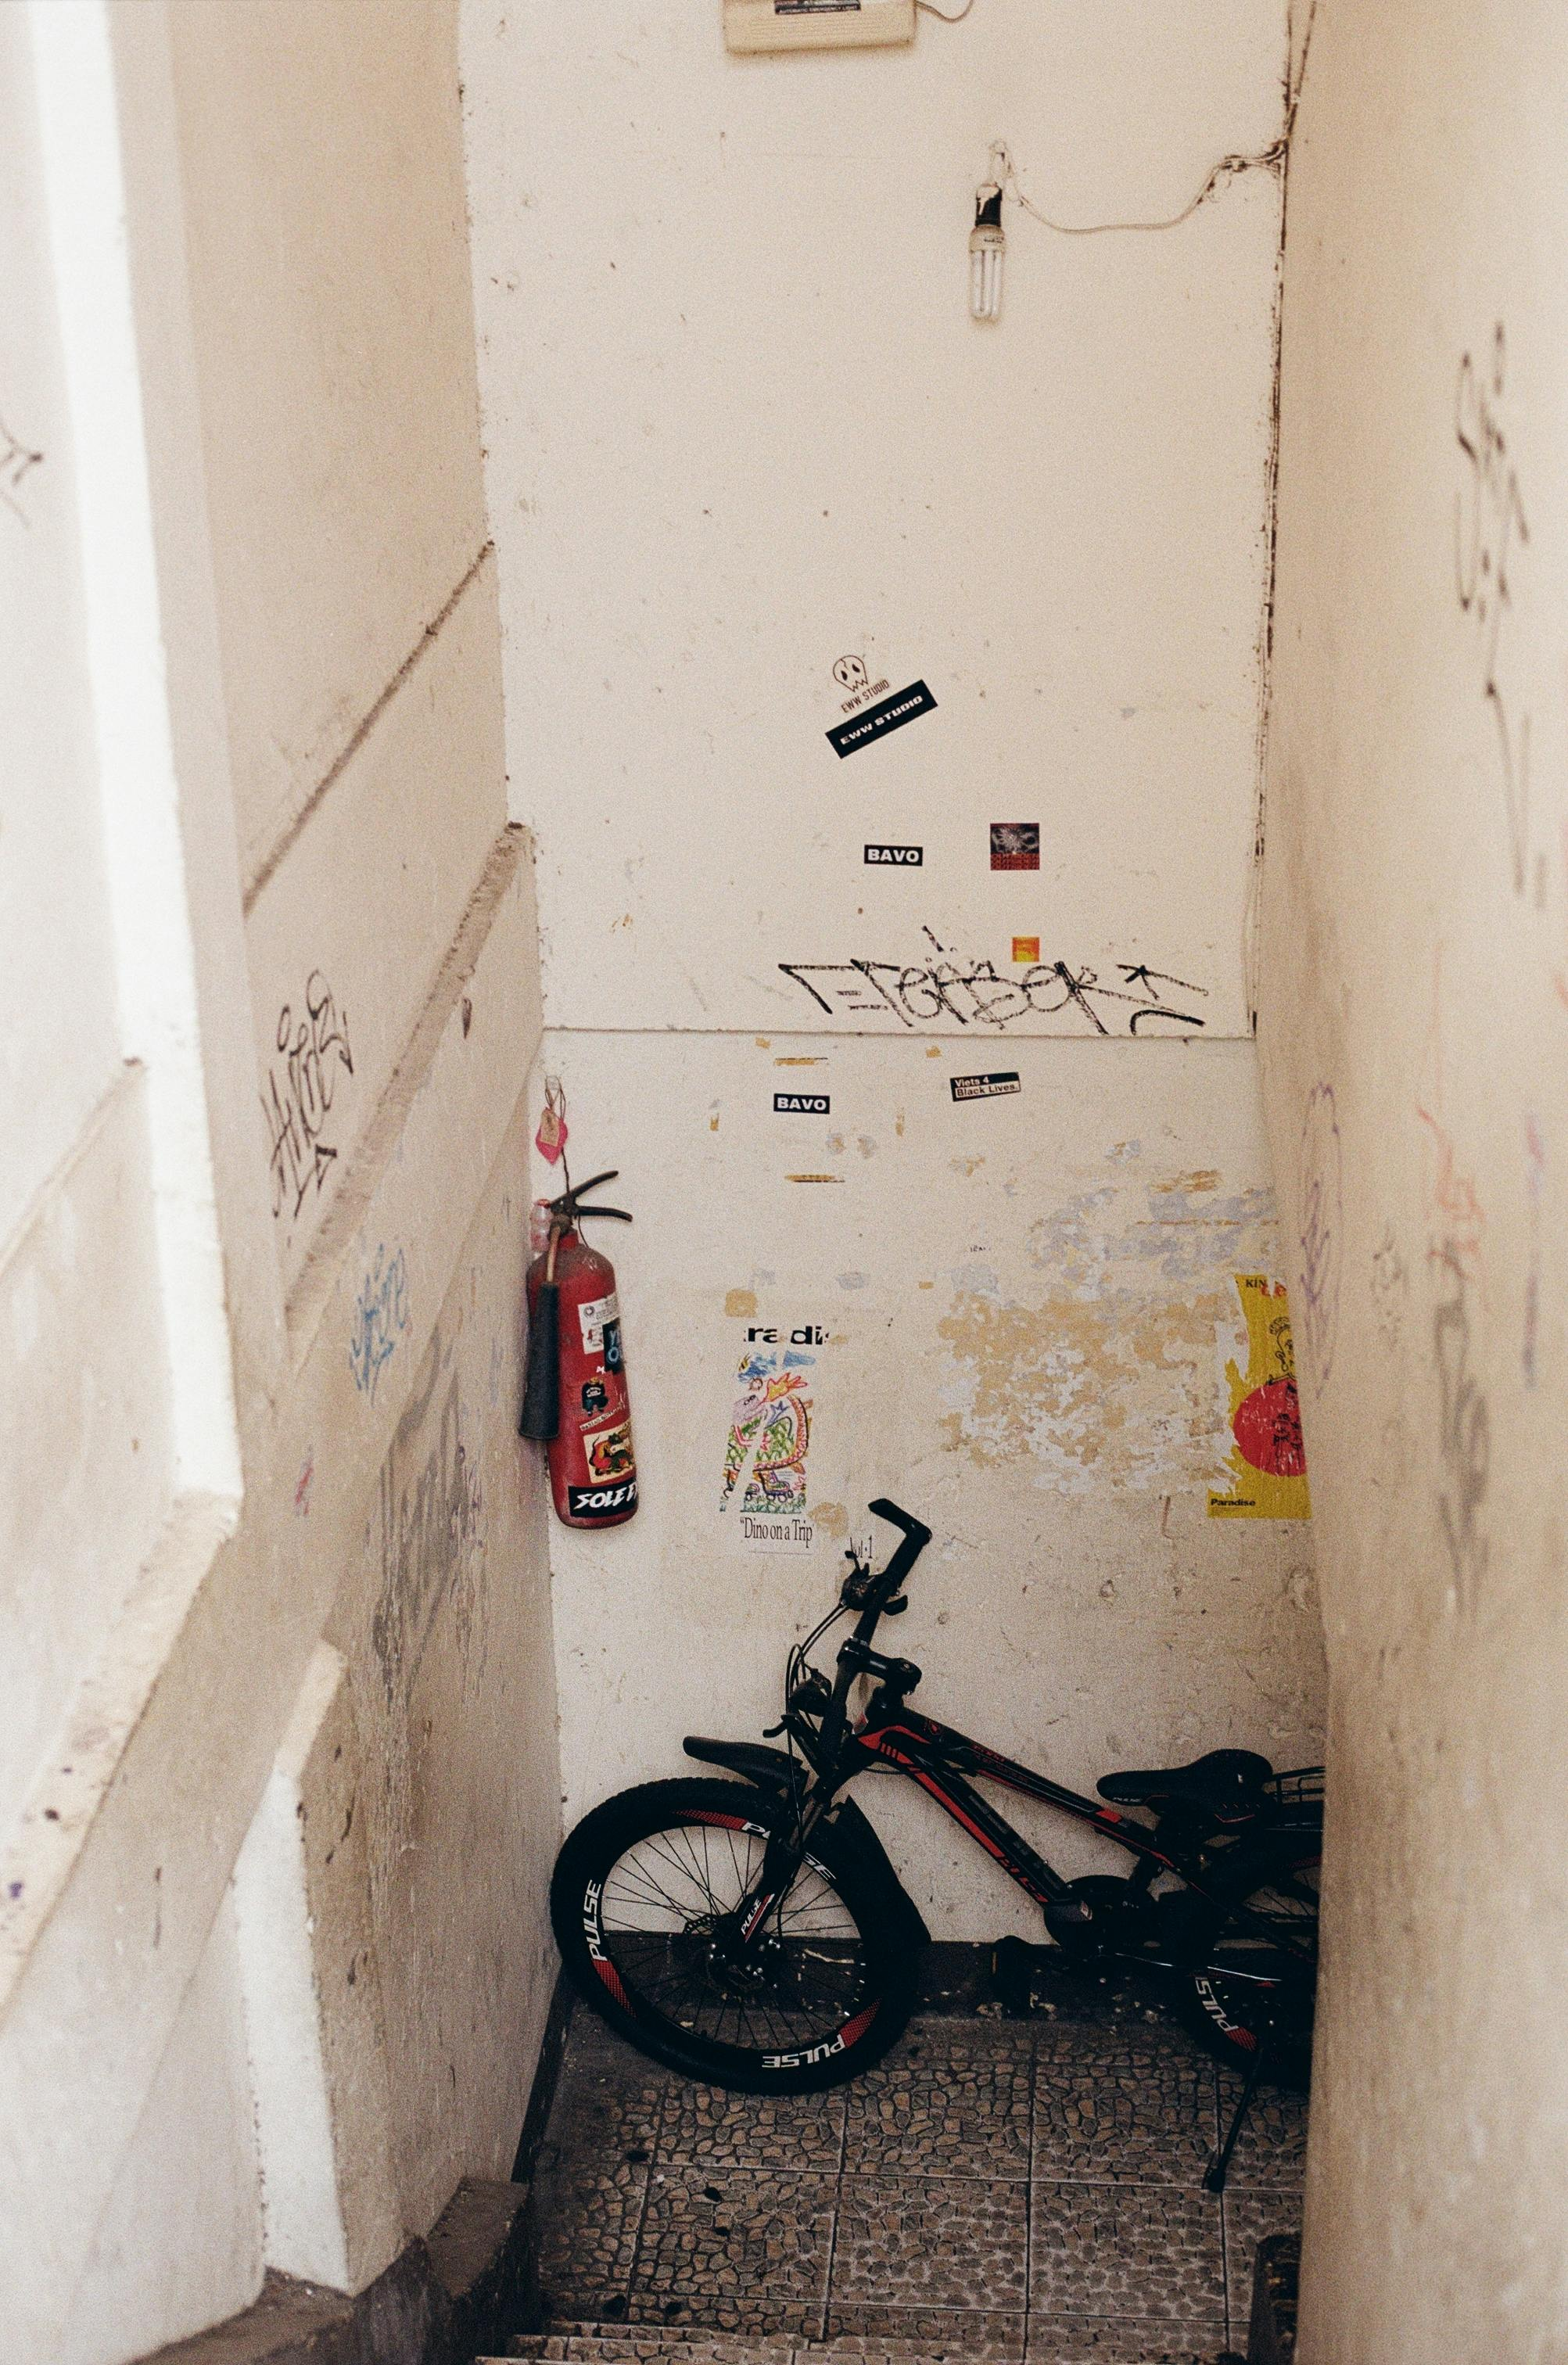extintor: (499, 1169, 670, 1539)
